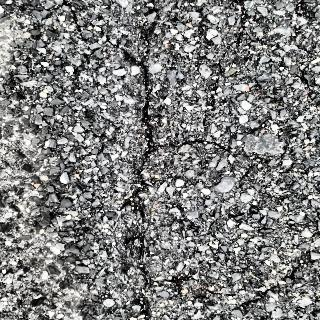crack: (110, 1, 171, 320)
